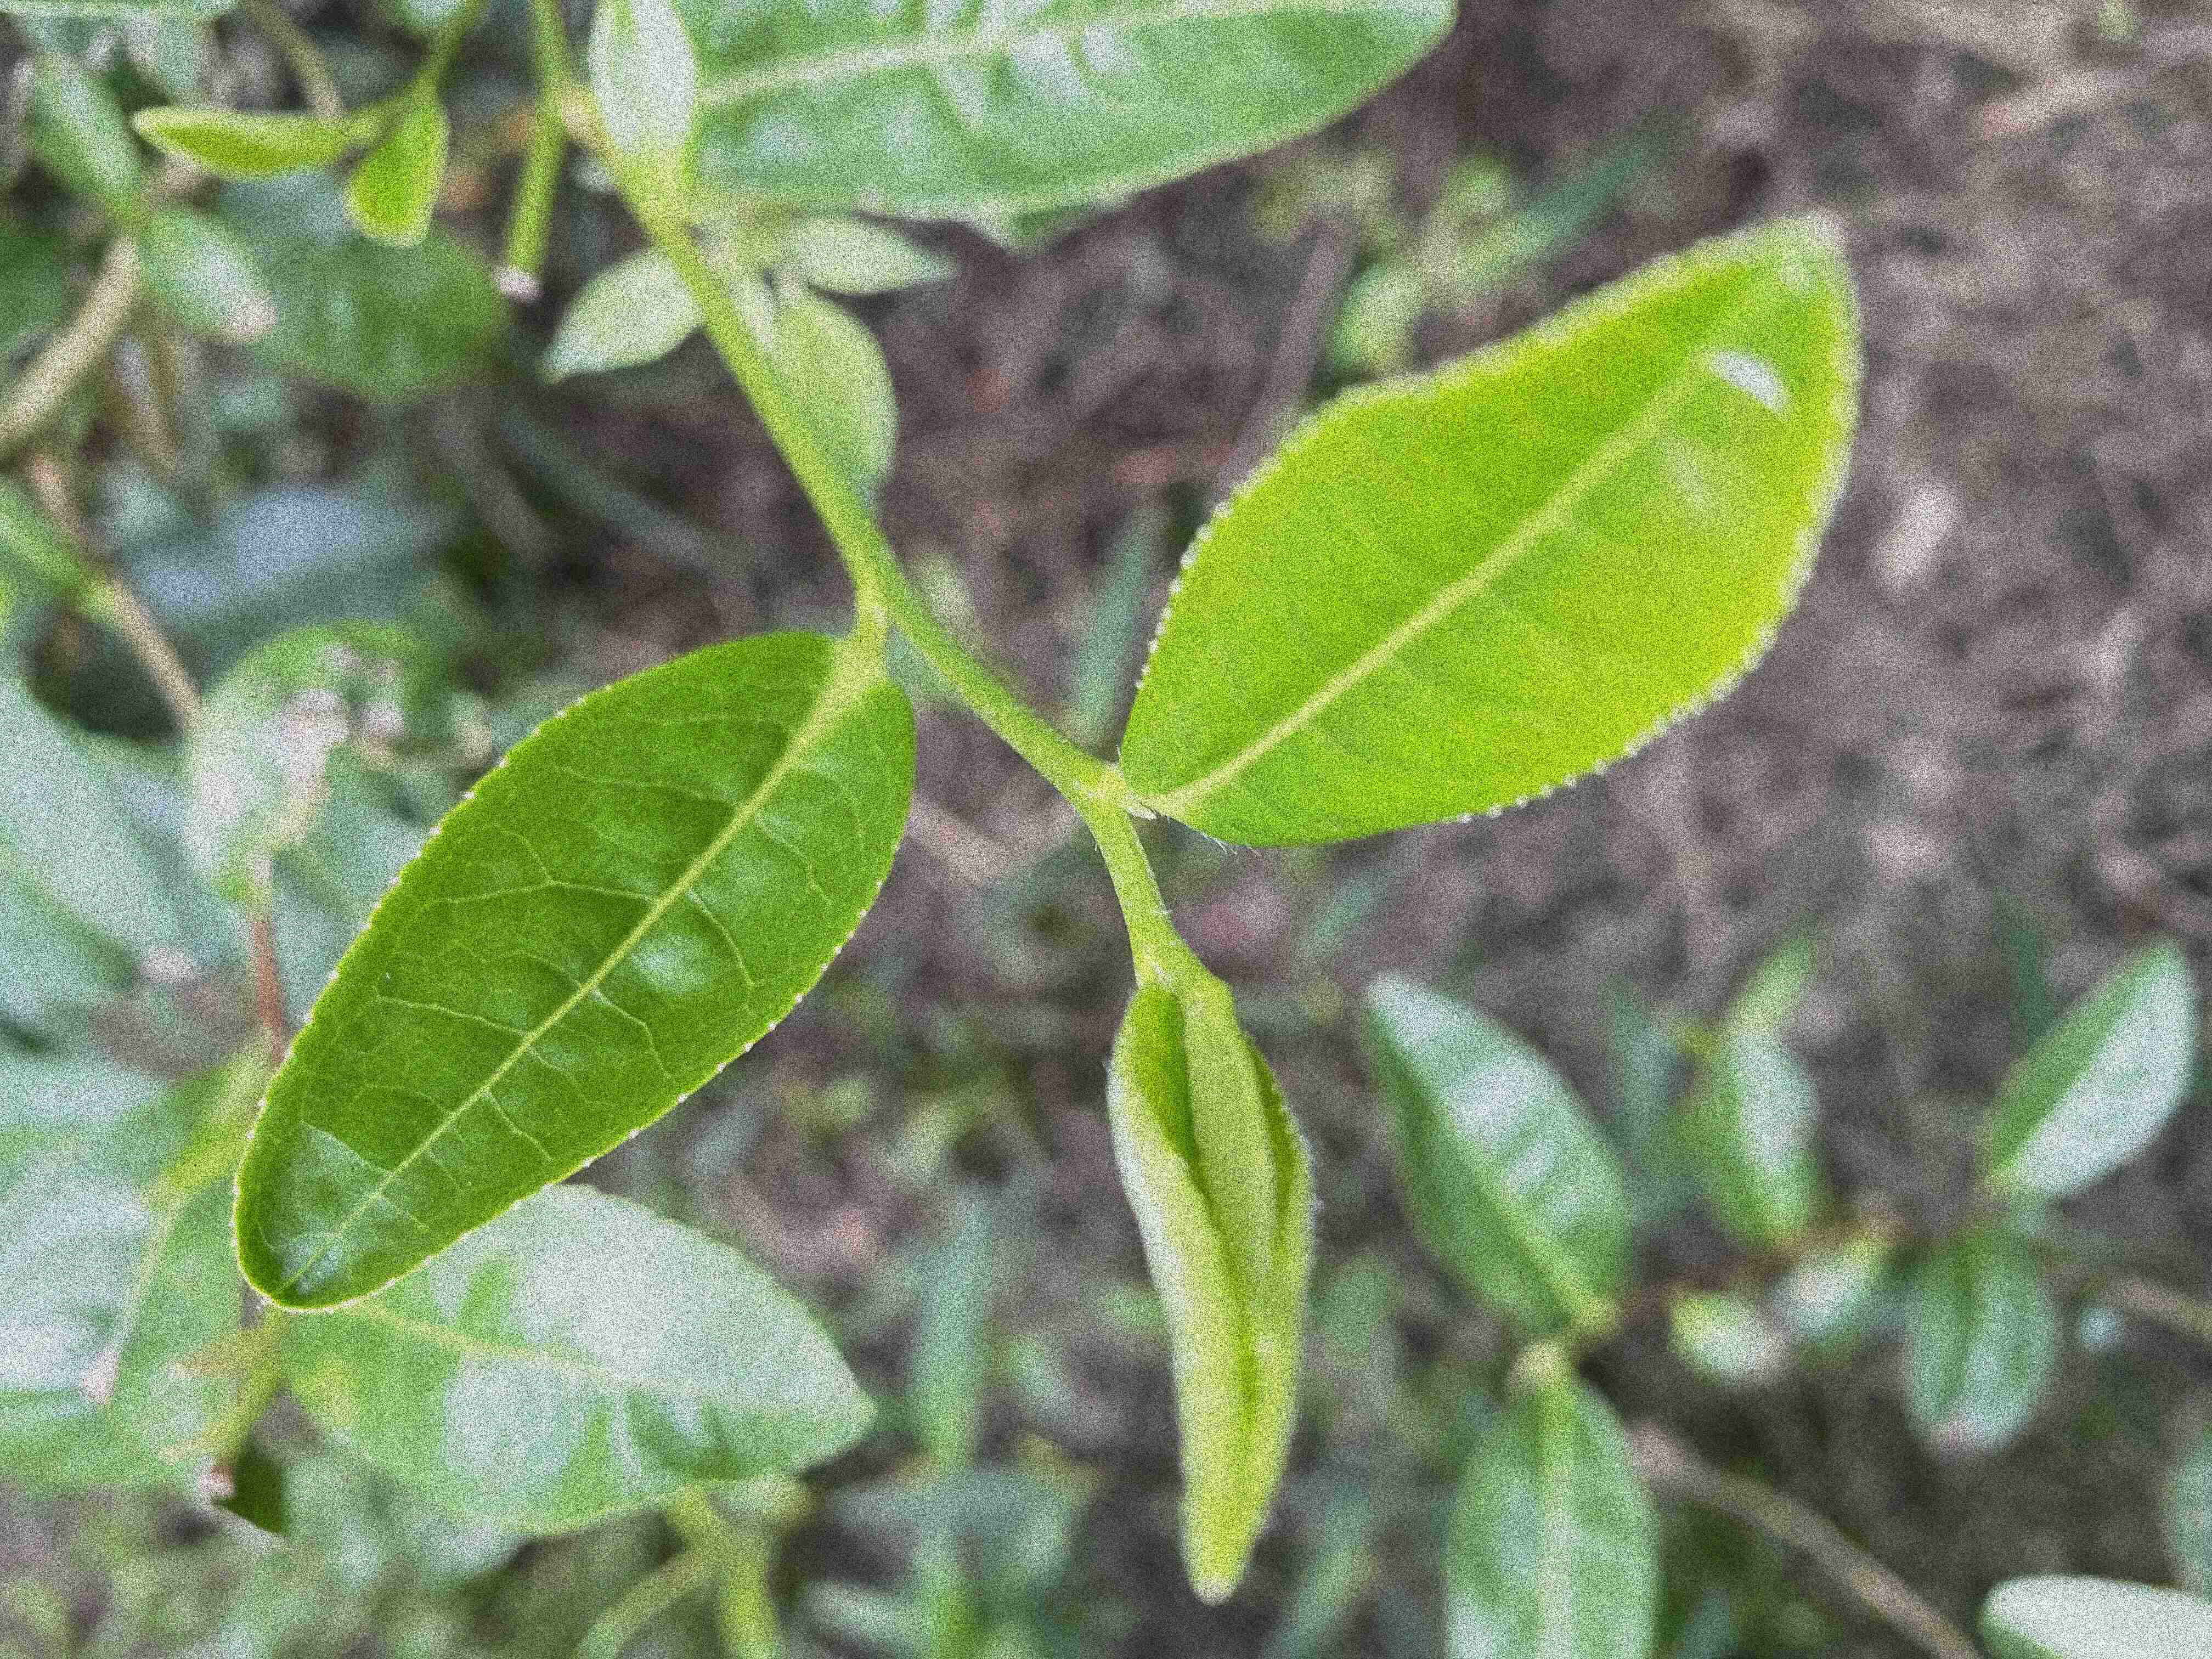healthy: (232, 633, 914, 1316), (1118, 218, 1857, 847)
